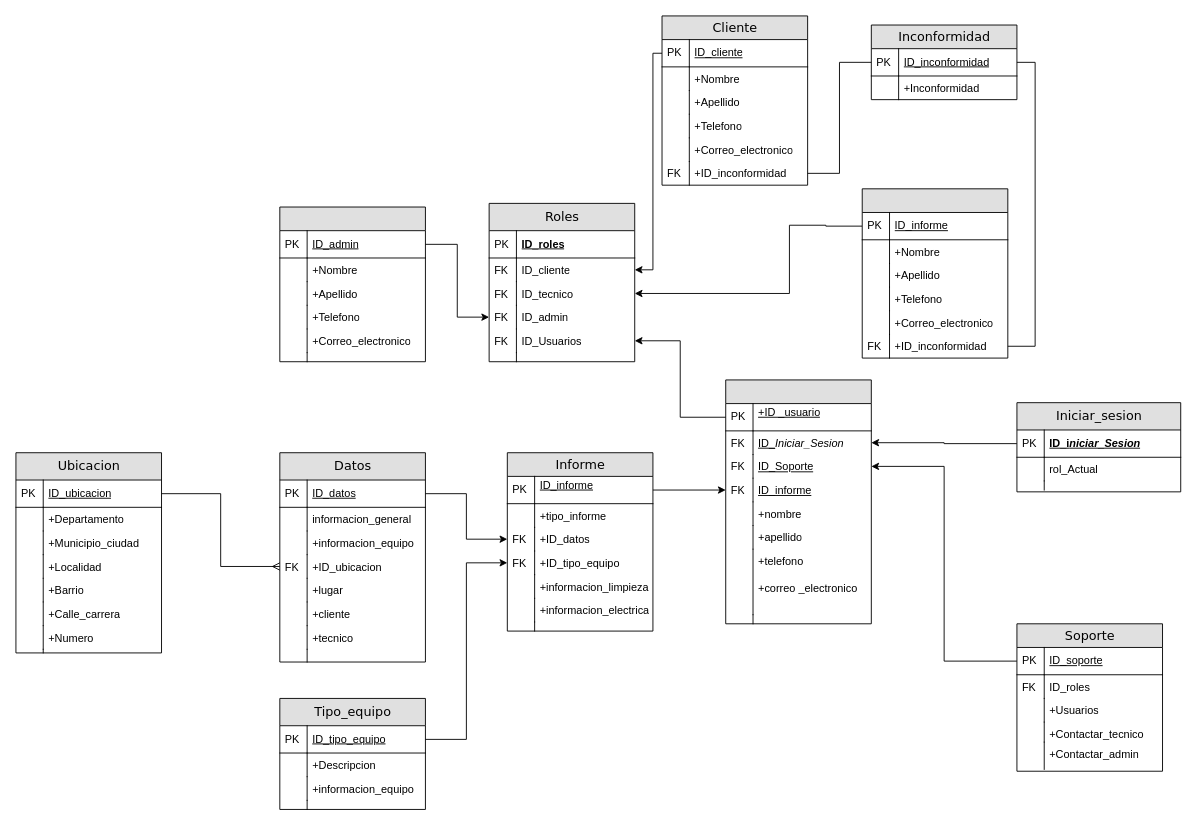
This 1197x825 diagram has some shape labels left out. Each missing label, with the box of its shape:
Administrador: (279, 206, 425, 362)
Tecnico: (861, 188, 1008, 358)
Usuarios: (725, 379, 871, 624)
